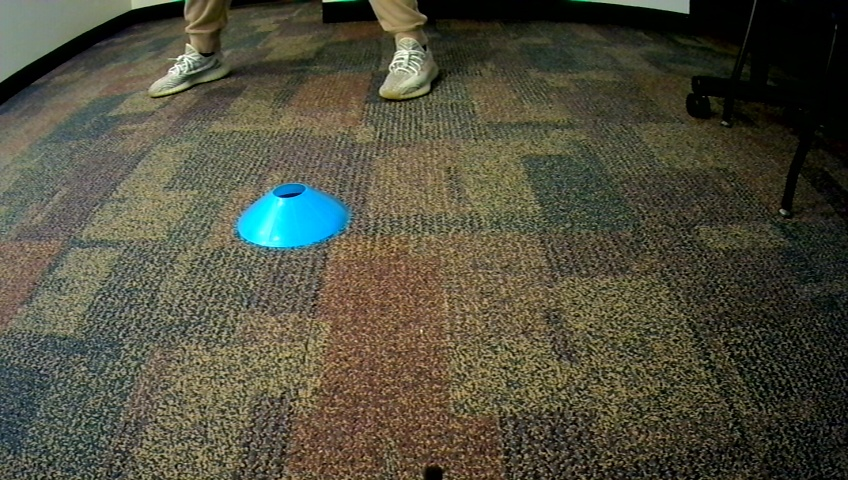cone: (234, 182, 351, 249)
